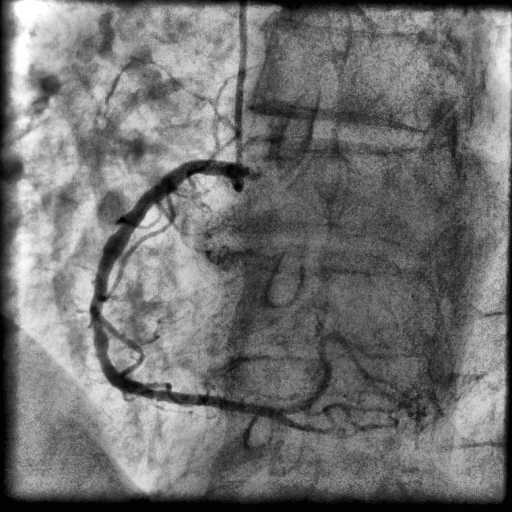pborca: (278, 332, 369, 417)
pda: (279, 404, 393, 434)
rca: (90, 159, 285, 421)
